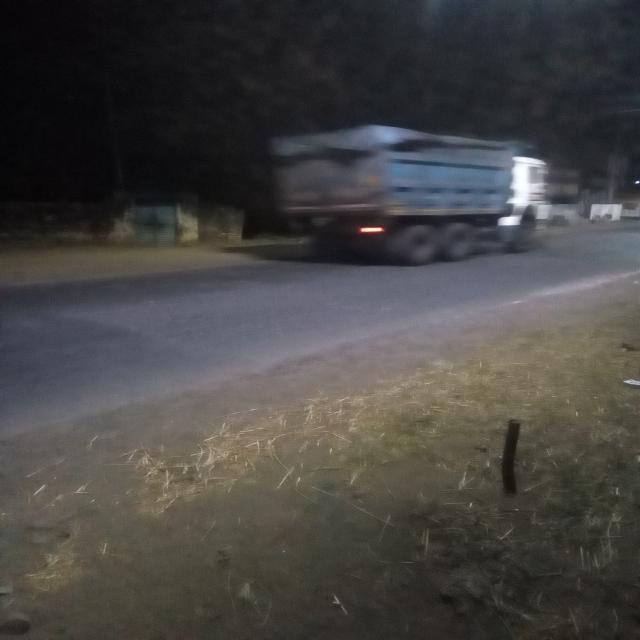truck_back: (267, 119, 555, 268)
